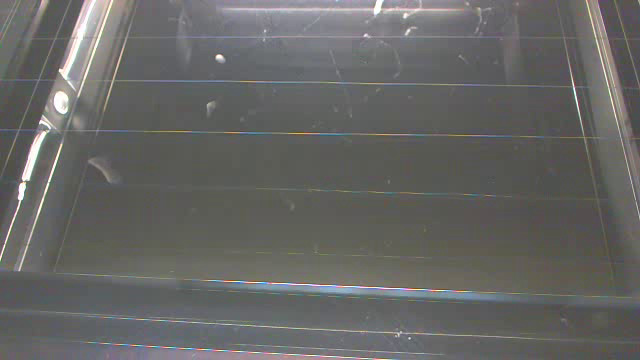alpha: (82, 150, 129, 187), (203, 92, 227, 120), (210, 50, 233, 69), (366, 1, 389, 18)
